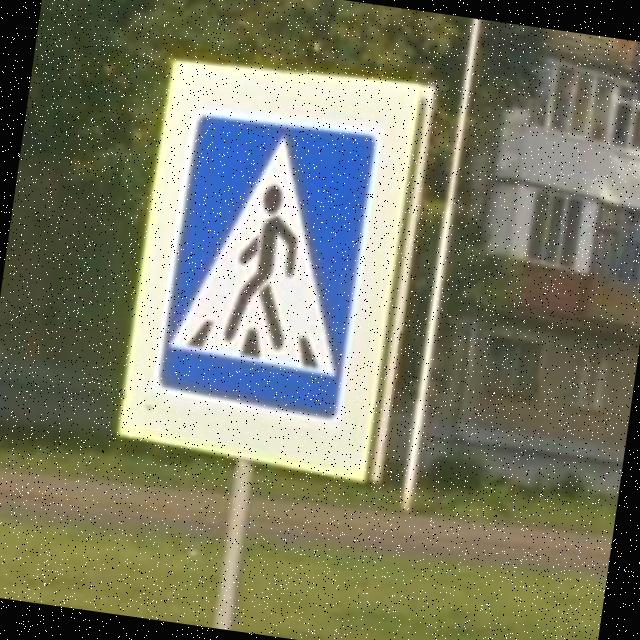Przejscie dla pieszych: (113, 48, 424, 486)
